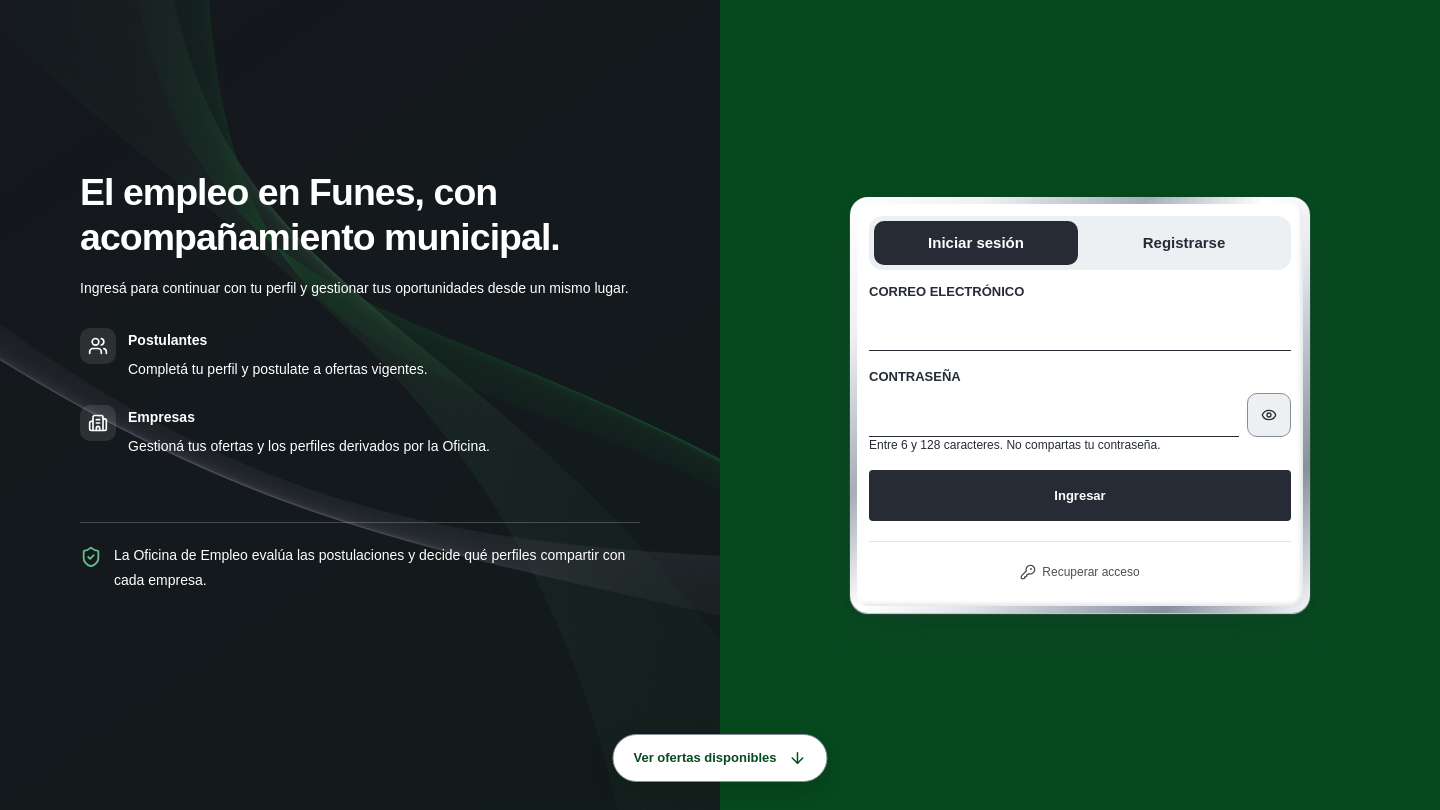
Home access panel › matches the original Empresa guide and restores the login introduction
This screenshot has width=1440, height=810.
Click the button "Registrarse" at (1184, 243), box [1082, 221, 1286, 265]
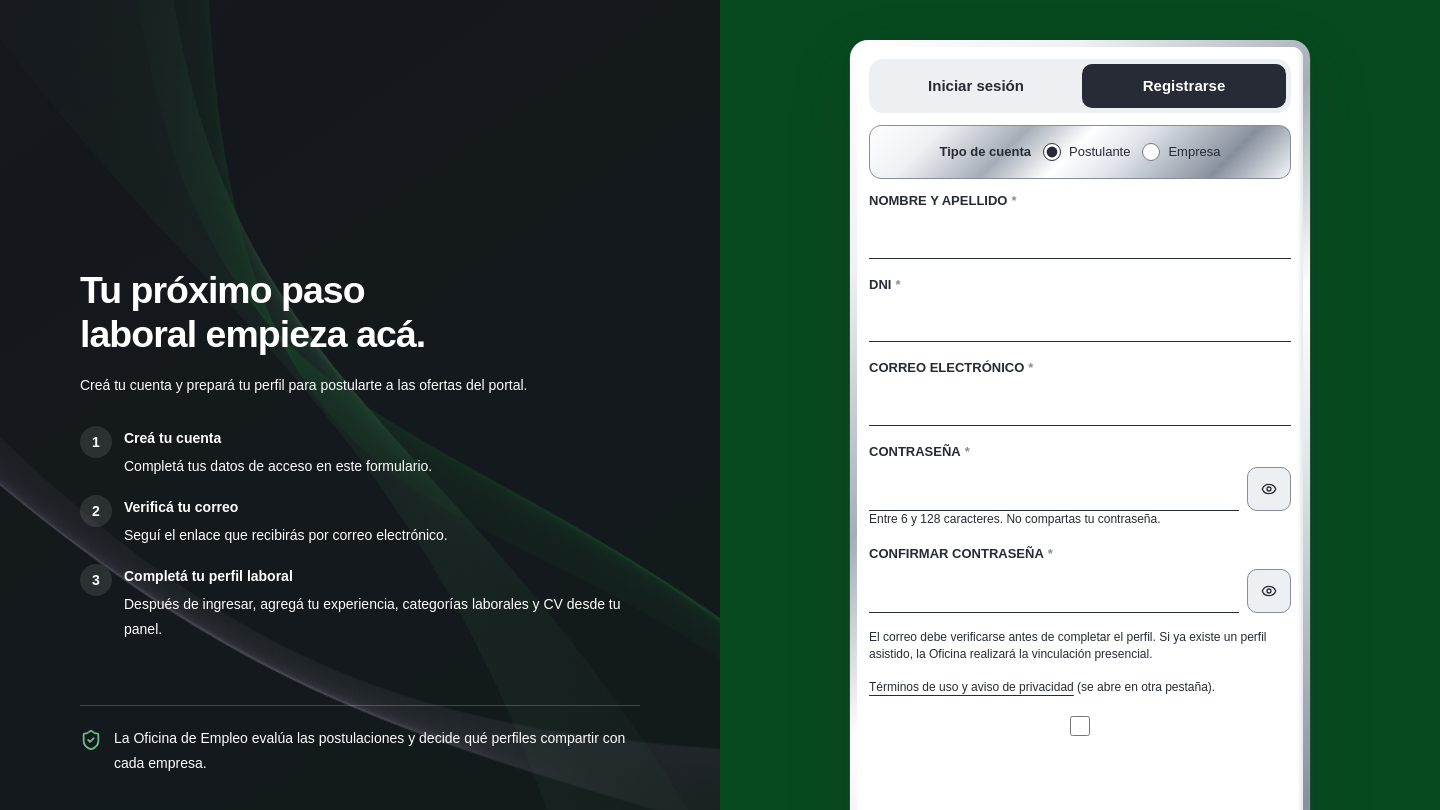
Click the radio button labelled "Empresa" at (1152, 152), box [1142, 143, 1160, 161]
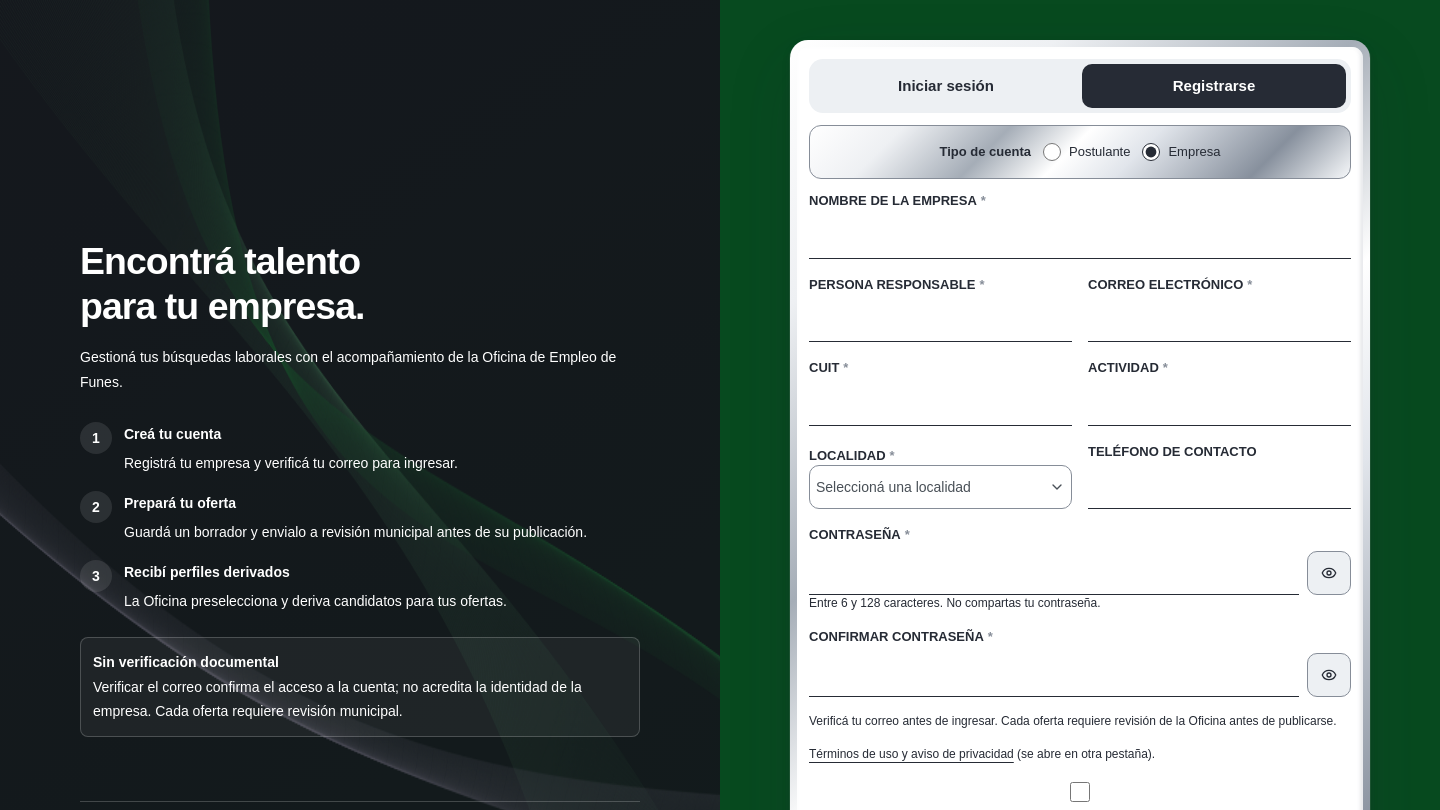
Expected: the text "Gestioná tus búsquedas laborales con el acompañamiento de la Oficina de Empleo de Funes." is shown, [80, 349, 616, 390]
Expected: the text "Registrá tu empresa y verificá tu correo para ingresar." is shown, [124, 450, 458, 475]
Expected: the text "Guardá un borrador y envialo a revisión municipal antes de su publicación." is shown, [124, 520, 587, 544]
Click the button "Iniciar sesión" at (946, 86), box [814, 64, 1078, 108]
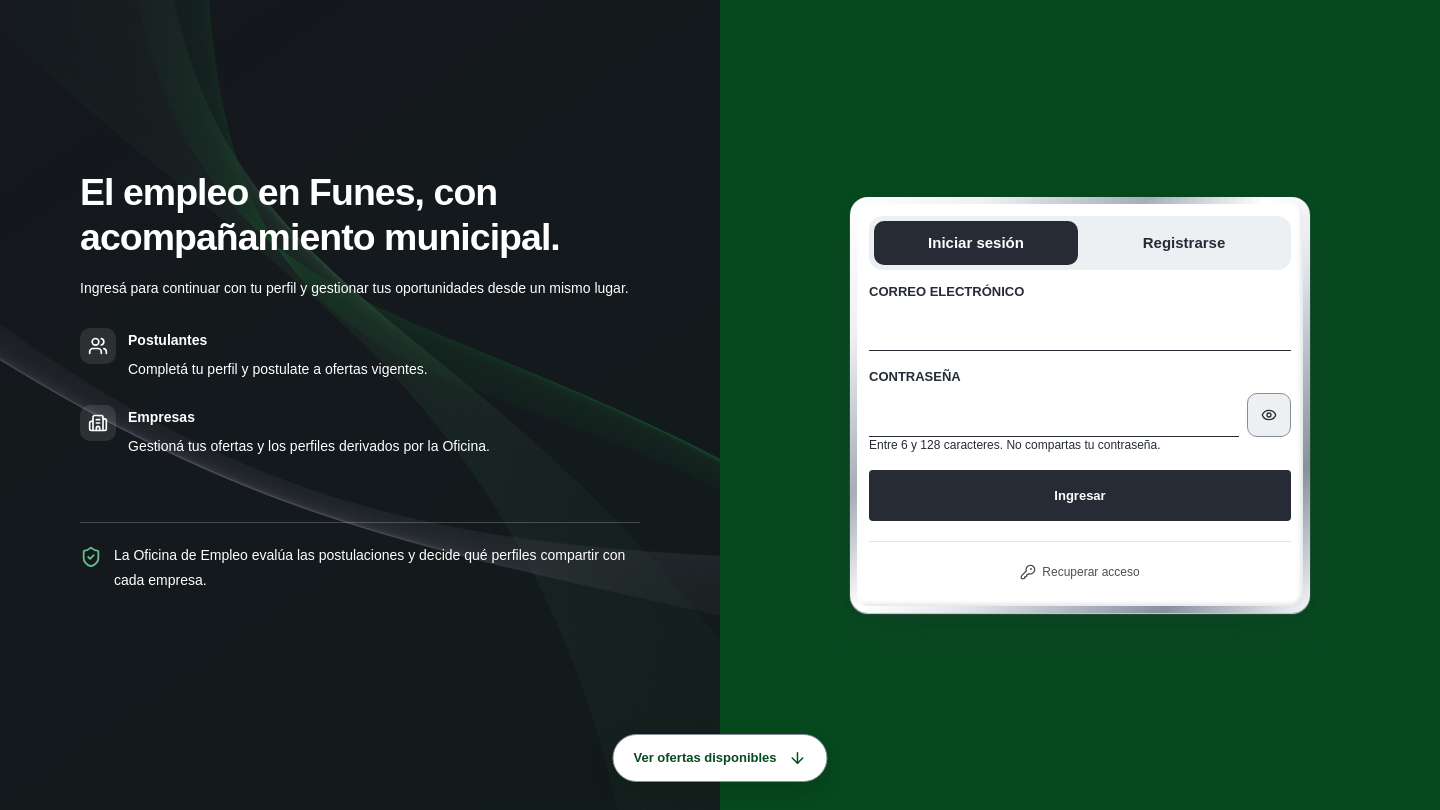
Click the button "Registrarse" at (1184, 243), box [1082, 221, 1286, 265]
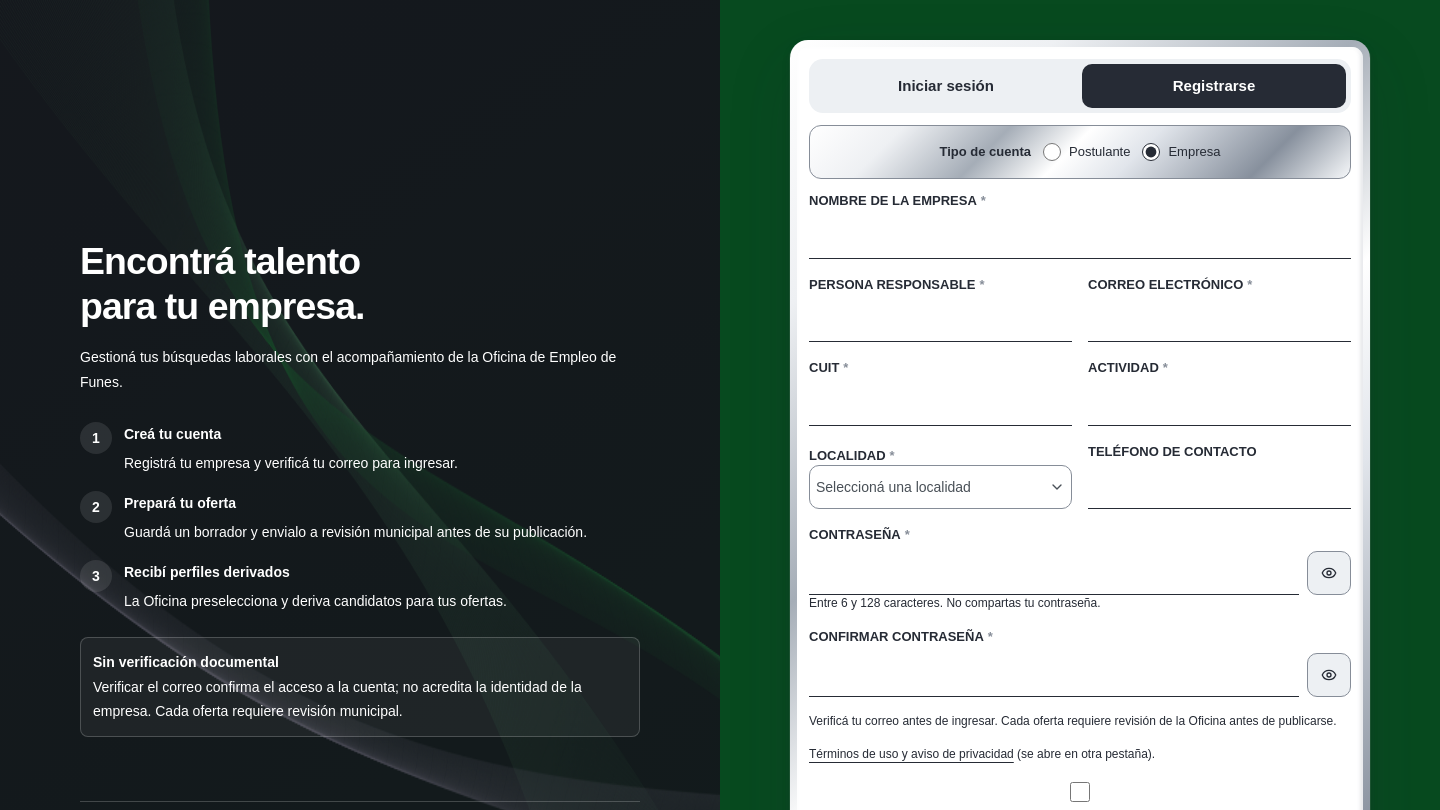
Expected: the heading "Encontrá talento para tu empresa." is shown, [80, 240, 364, 327]
Click the radio button labelled "Postulante" at (1052, 152), box [1043, 143, 1061, 161]
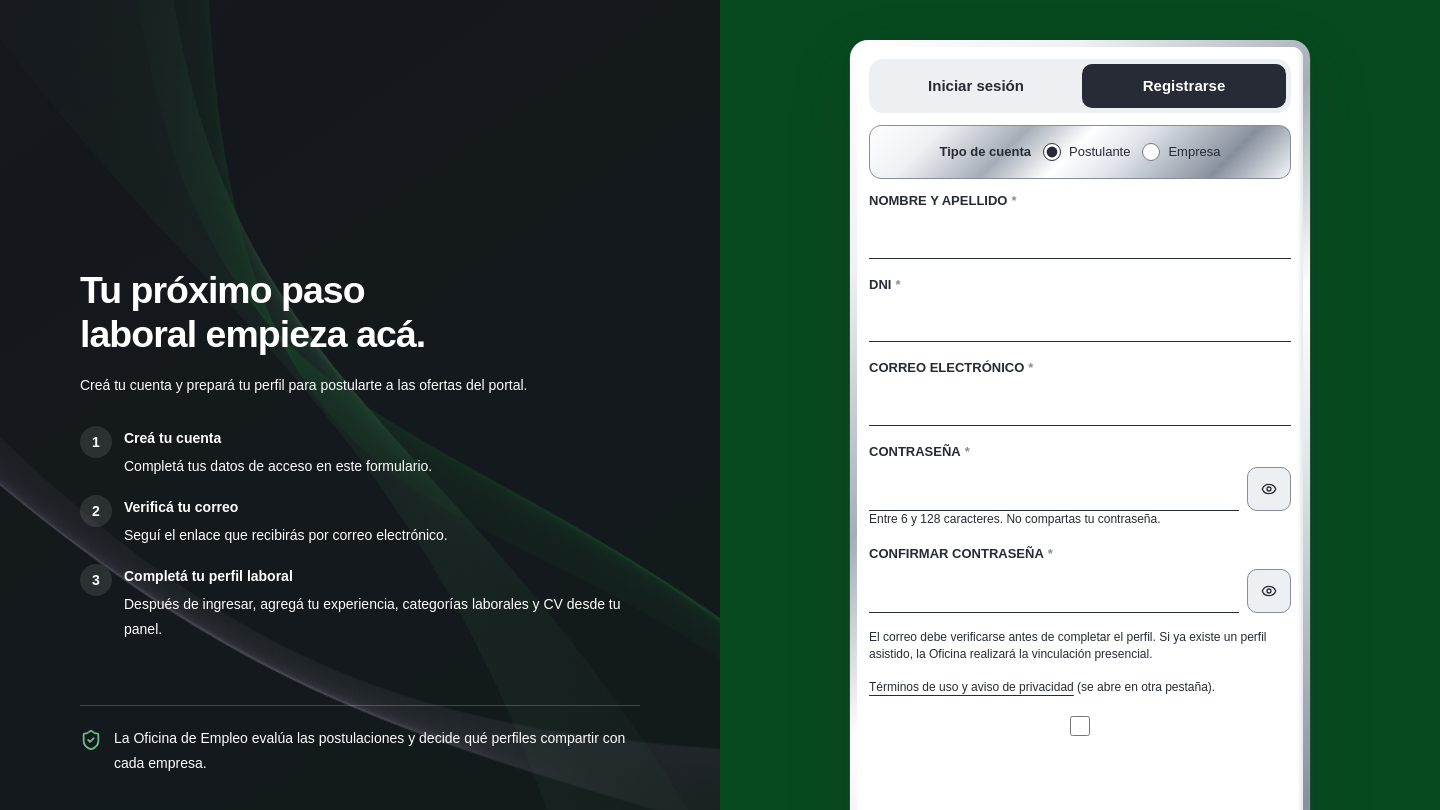
Expected: the heading "Encontrá talento para tu empresa." is gone
